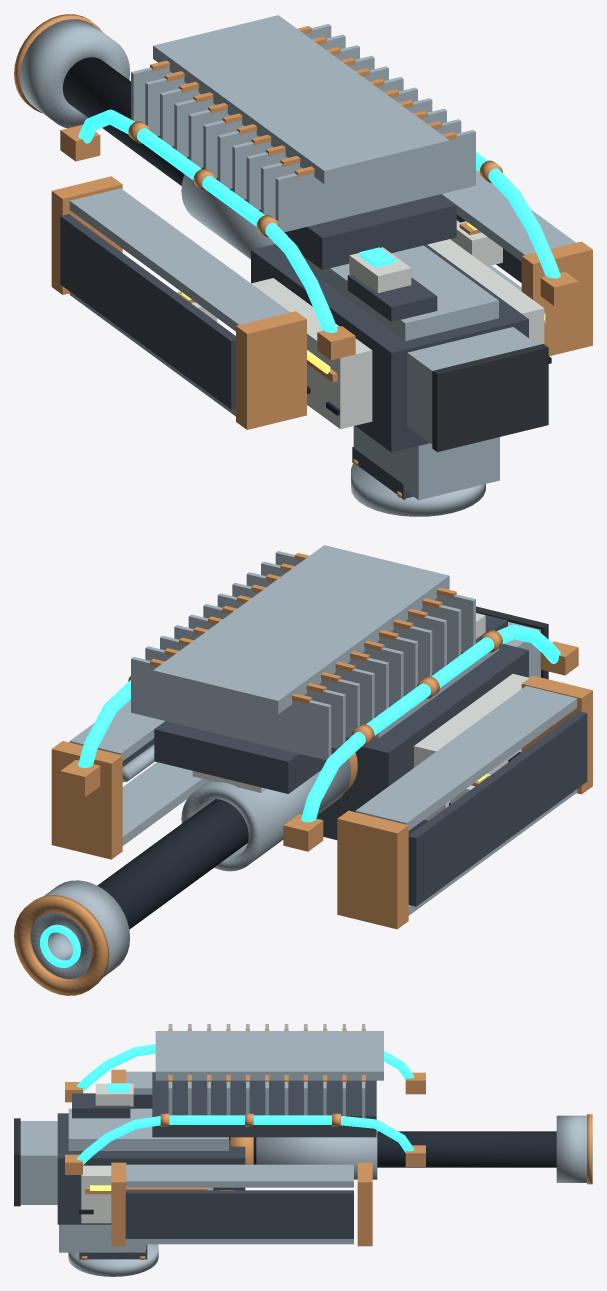
File: M01-008_liquid_cooled_rifle_animated.glb
3 views of the same model, one above another, from view 1: azimuth 30°, elevation 25°; view 2: azimuth 150°, elevation 25°; view 3: azimuth 270°, elevation 25° (orthographic). The views are drawn at different scales.
Parts seen in each view (by area): view 1: M01_008_Radiator_Upper_Rail, M01_008_Pump_Guide_Outer_L, M01_008_Pump_Guide_Upper_L, M01_008_Receiver, M01_008_Rear_Grip_Cap, M01_008_Radiator_Fin_00, M01_008_Pump_Rear_Anchor_L, M01_008_Radiator_Lower_Manifold, M01_008_Receiver_Spine, M01_008_Muzzle_Brake, M01_008_Lower_Pedestal, M01_008_Ceramic_Cheek_L (+29 smaller); view 2: M01_008_Radiator_Upper_Rail, M01_008_Pump_Guide_Outer_L, M01_008_Pump_Guide_Upper_L, M01_008_Radiator_Fin_10, M01_008_Hollow_Rifle_Barrel, M01_008_Receiver, M01_008_Pump_Front_Anchor_L, M01_008_Radiator_Lower_Manifold, M01_008_Pump_Front_Anchor_R, M01_008_Barrel_Heat_Shroud, M01_008_Muzzle_Brake, M01_008_Coolant_Tube_L (+25 smaller); view 3: M01_008_Pump_Guide_Outer_R, M01_008_Radiator_Upper_Rail, M01_008_Radiator_Lower_Manifold, M01_008_Hollow_Rifle_Barrel, M01_008_Pump_Guide_Upper_R, M01_008_Receiver, M01_008_Barrel_Heat_Shroud, M01_008_Receiver_Spine, M01_008_Coolant_Tube_R, M01_008_Rear_Breech, M01_008_Muzzle_Brake, M01_008_Lower_Pedestal (+17 smaller).
Part boxes in pixels (x1,y1,x2,y2): M01_008_Radiator_Upper_Rail: [153, 15, 449, 183]; M01_008_Pump_Guide_Outer_L: [60, 214, 236, 409]; M01_008_Pump_Guide_Upper_L: [69, 188, 290, 331]; M01_008_Receiver: [251, 244, 528, 452]; M01_008_Rear_Grip_Cap: [432, 344, 548, 451]; M01_008_Radiator_Fin_00: [275, 130, 475, 232]; M01_008_Pump_Rear_Anchor_L: [236, 311, 306, 429]; M01_008_Radiator_Lower_Manifold: [158, 135, 456, 269]; M01_008_Receiver_Spine: [303, 245, 498, 340]; M01_008_Muzzle_Brake: [20, 19, 129, 128]; M01_008_Lower_Pedestal: [353, 426, 499, 500]; M01_008_Ceramic_Cheek_L: [251, 278, 372, 429]; M01_008_Radiator_Upper_Rail: [153, 545, 449, 714]; M01_008_Pump_Guide_Outer_L: [408, 711, 587, 906]; M01_008_Pump_Guide_Upper_L: [355, 686, 577, 830]; M01_008_Radiator_Fin_10: [131, 657, 331, 760]; M01_008_Hollow_Rifle_Barrel: [97, 799, 248, 929]; M01_008_Receiver: [316, 644, 528, 839]; M01_008_Pump_Front_Anchor_L: [337, 810, 408, 929]; M01_008_Radiator_Lower_Manifold: [154, 662, 448, 793]; M01_008_Pump_Front_Anchor_R: [51, 741, 122, 859]; M01_008_Barrel_Heat_Shroud: [181, 759, 350, 871]; M01_008_Muzzle_Brake: [31, 880, 129, 978]; M01_008_Coolant_Tube_L: [301, 624, 560, 822]; M01_008_Pump_Guide_Outer_R: [125, 1190, 353, 1238]; M01_008_Radiator_Upper_Rail: [155, 1031, 383, 1080]; M01_008_Radiator_Lower_Manifold: [152, 1072, 376, 1137]; M01_008_Hollow_Rifle_Barrel: [229, 1131, 556, 1167]; M01_008_Pump_Guide_Upper_R: [126, 1164, 353, 1187]; M01_008_Receiver: [57, 1113, 245, 1224]; M01_008_Barrel_Heat_Shroud: [256, 1130, 377, 1179]; M01_008_Receiver_Spine: [68, 1108, 228, 1150]; M01_008_Coolant_Tube_R: [76, 1115, 414, 1164]; M01_008_Rear_Breech: [20, 1121, 57, 1204]; M01_008_Muzzle_Brake: [556, 1115, 586, 1182]; M01_008_Lower_Pedestal: [59, 1224, 145, 1252].
Size of the model in its own units: 1.01 by 0.838 by 2.13.
